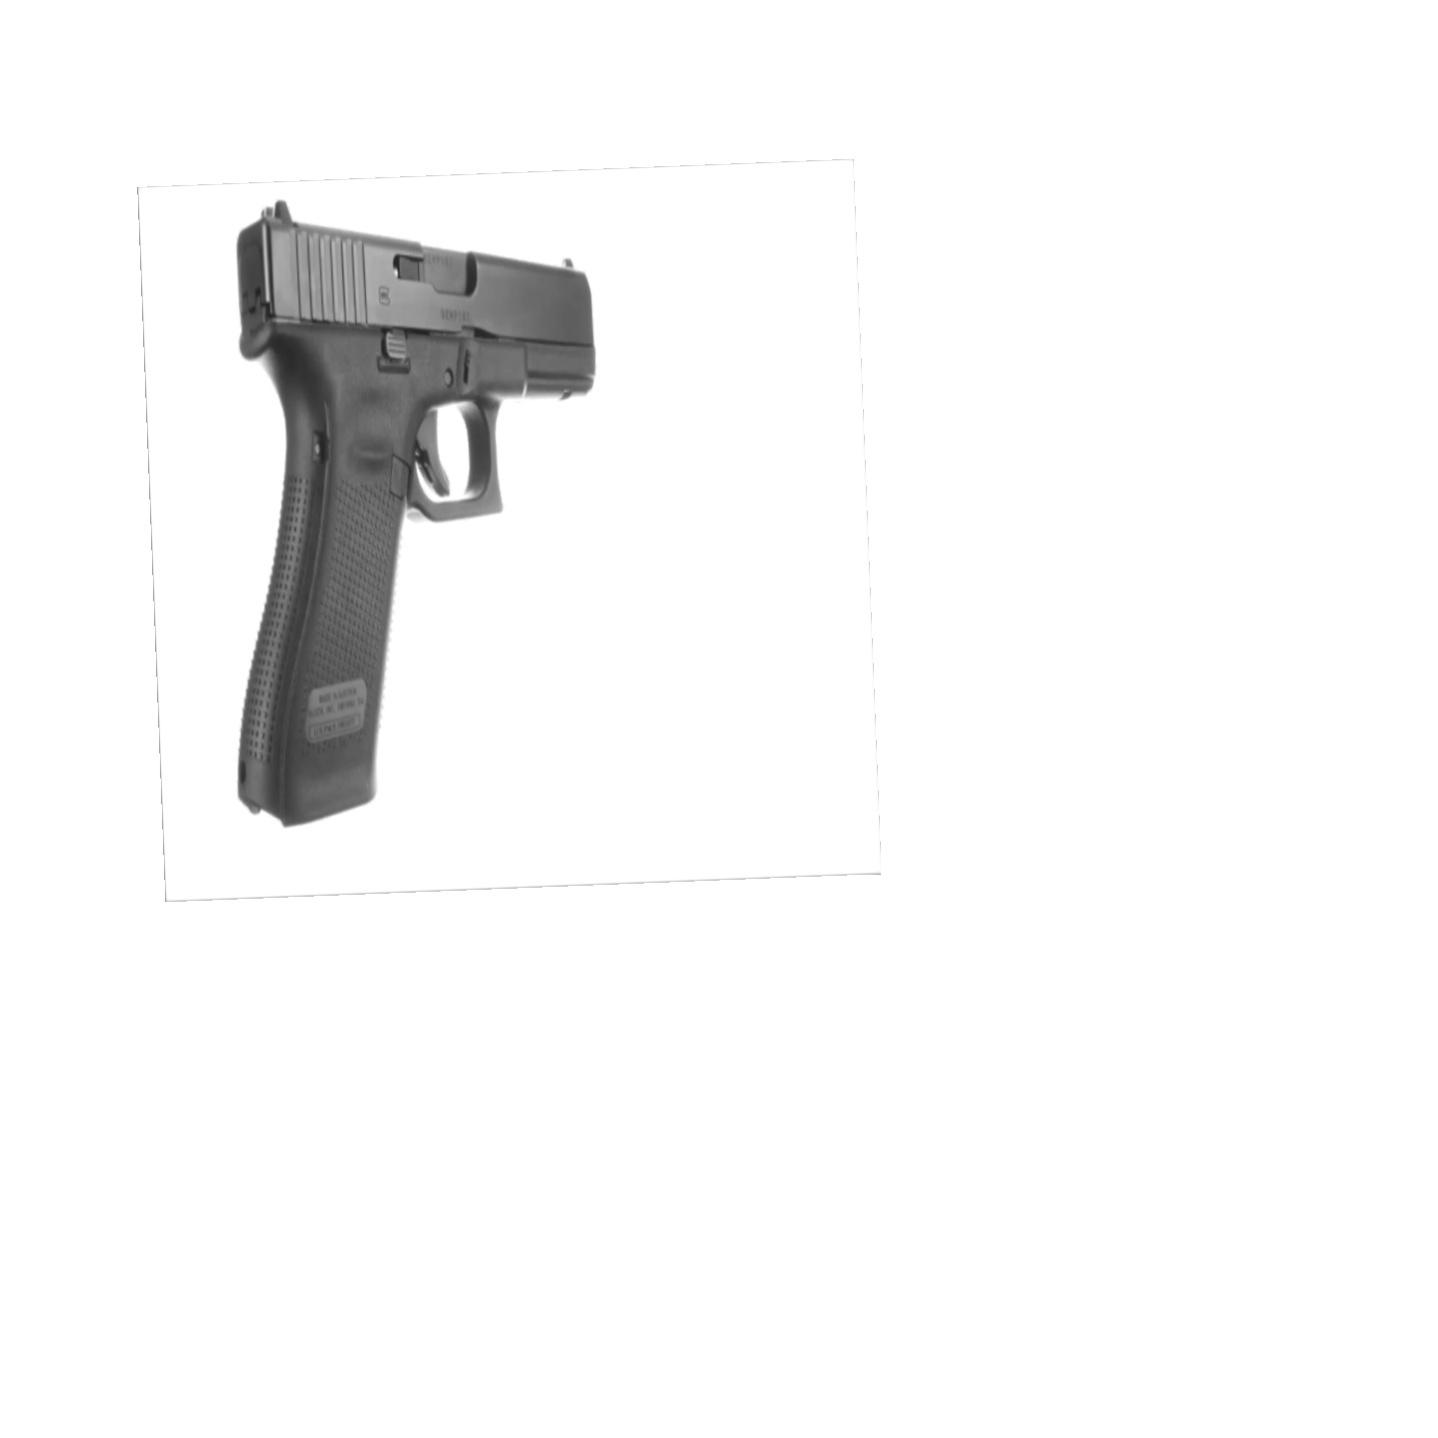gun: (211, 195, 611, 840)
